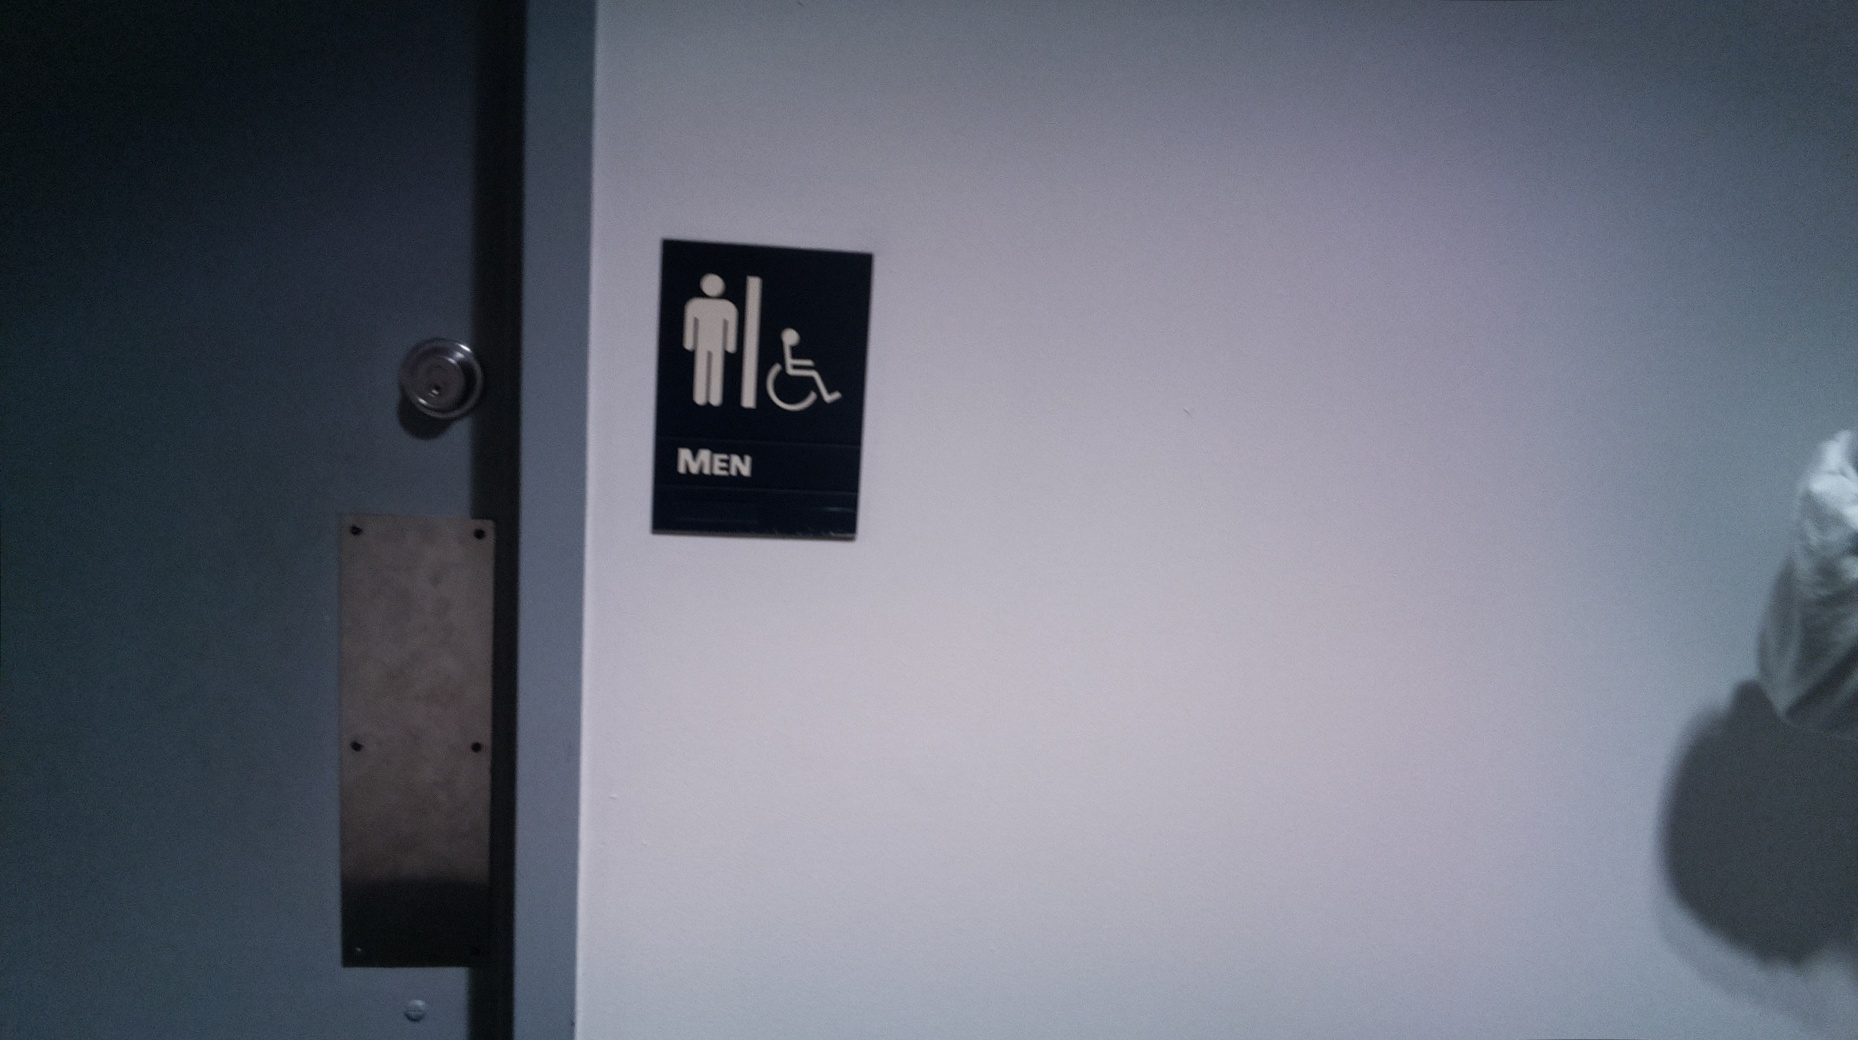bathroom sign: (641, 232, 887, 549)
